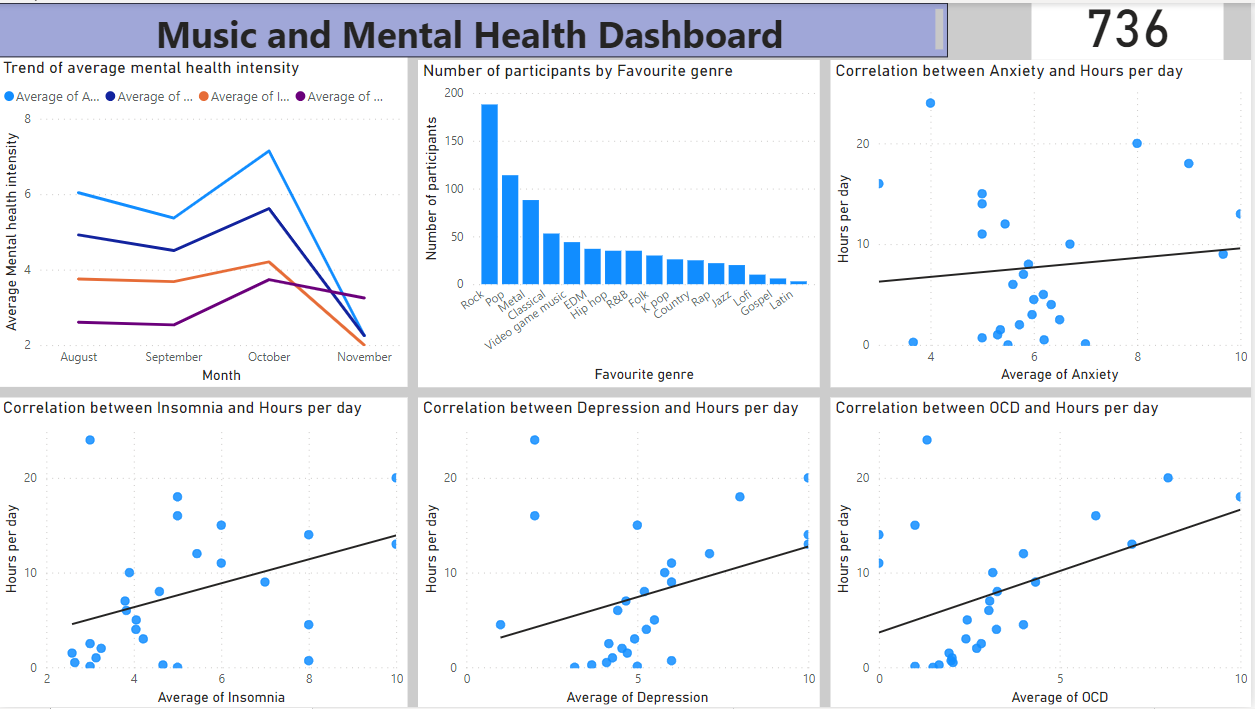

This screenshot's page, from the dashboard's own definition file:
{"tool":"powerbi","page":{"name":"Music and mental health","canvas":[1280,720],"ordinal":0},"visuals":[{"type":"lineChart","title":"Trend of average mental health intensity","fields":{"Category":["Music_and_Mental_Health_-_Survey_cleaned.Timestamp.Variation.Date Hierarchy.Month"],"Y":["Avg(Music_and_Mental_Health_-_Survey_cleaned.Anxiety)","Avg(Music_and_Mental_Health_-_Survey_cleaned.Depression)","Avg(Music_and_Mental_Health_-_Survey_cleaned.Insomnia)","Avg(Music_and_Mental_Health_-_Survey_cleaned.OCD)"]},"box":[0,55.1,417.9,336.8],"z":0},{"type":"clusteredColumnChart","fields":{"Y":["Count(Music_and_Mental_Health_-_Survey_cleaned.Index)"],"Category":["Music_and_Mental_Health_-_Survey_cleaned.Fav genre"]},"box":[428.6,58.2,410.3,333.7],"z":1000},{"type":"textbox","box":[0,0,969,55.1],"z":2000},{"type":"card","fields":{"Values":["Count(Music_and_Mental_Health_-_Survey_cleaned.Index)"]},"box":[1054.8,0,195.9,58.2],"z":3000},{"type":"scatterChart","title":"Correlation between Anxiety and Hours per day","fields":{"X":["Avg(Music_and_Mental_Health_-_Survey_cleaned.Anxiety)"],"Y":["Music_and_Mental_Health_-_Survey_cleaned.Hours per day"]},"box":[849.6,58.2,430.2,333.7],"z":4000},{"type":"scatterChart","title":"Correlation between Insomnia and Hours per day","fields":{"X":["Avg(Music_and_Mental_Health_-_Survey_cleaned.Insomnia)"],"Y":["Music_and_Mental_Health_-_Survey_cleaned.Hours per day"]},"box":[0,402,418,318],"z":5000},{"type":"scatterChart","title":"Correlation between Depression and Hours per day","fields":{"X":["Avg(Music_and_Mental_Health_-_Survey_cleaned.Depression)"],"Y":["Music_and_Mental_Health_-_Survey_cleaned.Hours per day"]},"box":[429,402,410,318],"z":6000},{"type":"scatterChart","title":"Correlation between OCD and Hours per day","fields":{"X":["Avg(Music_and_Mental_Health_-_Survey_cleaned.OCD)"],"Y":["Music_and_Mental_Health_-_Survey_cleaned.Hours per day"]},"box":[850,402,430,318],"z":7000}]}

Visuals, with their boxes in screenshot pixels (x1, y1, x2, y2), scaled from the page's 1280x720 canvas onto the 1255x709 screenshot:
"Trend of average mental health intensity" lineChart: Rect(0, 54, 410, 386)
clusteredColumnChart - Count(Music_and_Mental_Health_-_Survey_cleaned.Index) x Music_and_Mental_Health_-_Survey_cleaned.Fav genre: Rect(420, 57, 823, 386)
textbox: Rect(0, 0, 950, 54)
card - Count(Music_and_Mental_Health_-_Survey_cleaned.Index): Rect(1034, 0, 1226, 57)
"Correlation between Anxiety and Hours per day" scatterChart: Rect(833, 57, 1254, 386)
"Correlation between Insomnia and Hours per day" scatterChart: Rect(0, 396, 410, 708)
"Correlation between Depression and Hours per day" scatterChart: Rect(421, 396, 823, 708)
"Correlation between OCD and Hours per day" scatterChart: Rect(833, 396, 1254, 708)
